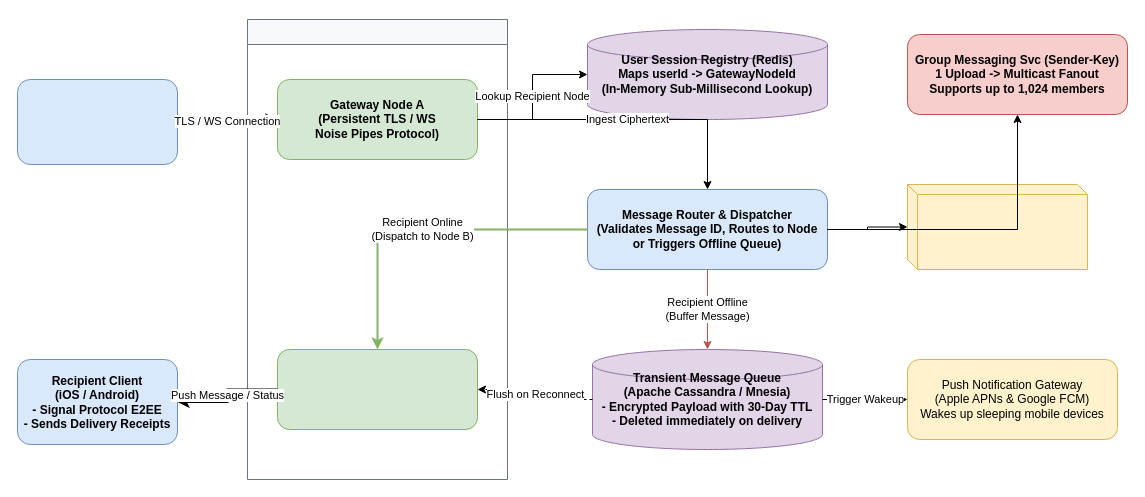
Some shapes in this 1145 by 497 pixel diagram are drawn without their labels. The box of each missing label's shape, as (x1, y1, x2, y2) in pixels:
Apache Kafka (Message & Receipt Events Partitioned by ChatId): (906, 184, 1088, 270)
CONNECTION GATEWAY TIER (Erlang / Go - 500 Nodes, 1M Conns/Server): (246, 18, 508, 480)
Gateway Node B (Persistent TLS / WS Noise Pipes Protocol): (276, 348, 478, 430)
Sender Client (iOS / Android) - Signal Protocol E2EE - Local SQLite DB: (16, 78, 178, 164)
